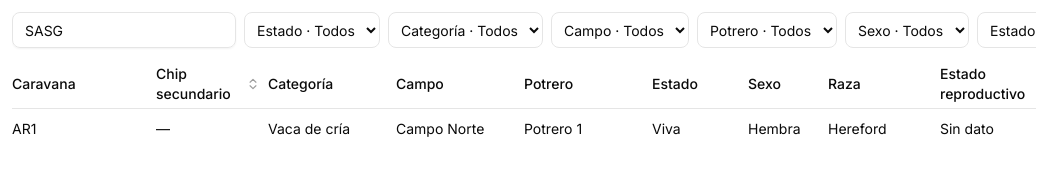
Test case: AnimalsTable › does not match category through the search box, since that has its own filter
This screenshot has width=1048, height=172.
Type "Vaca de cría" into the field with placeholder "Buscar por caravana o dueño" at (124, 30), box [12, 12, 236, 48]
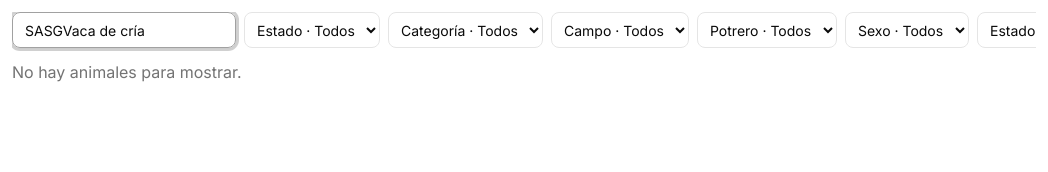
Check: the text "AR1" is gone
